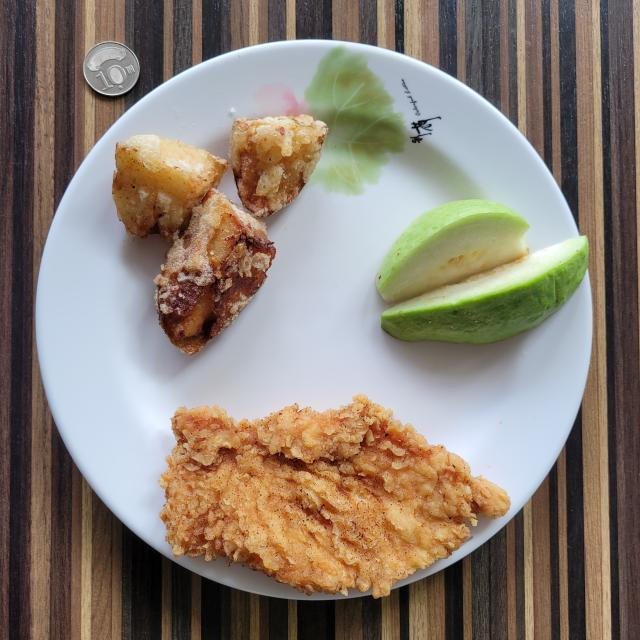coin: (82, 41, 139, 96)
fried chicken cutlet: (159, 395, 510, 598)
fried potato: (112, 115, 328, 354)
guava -sliced-: (376, 200, 589, 344)
